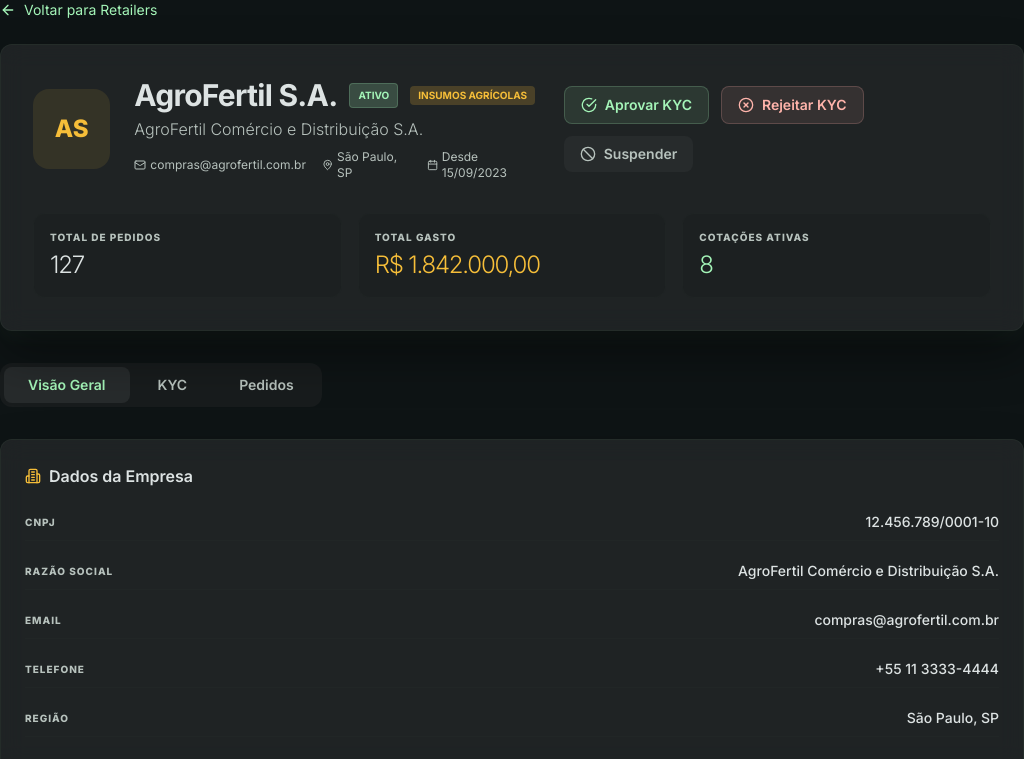
Scenario: RetailerDetailPage › should switch tabs and show each content section
Click the button "KYC" at coordinates (172, 385), box [134,367,211,403]
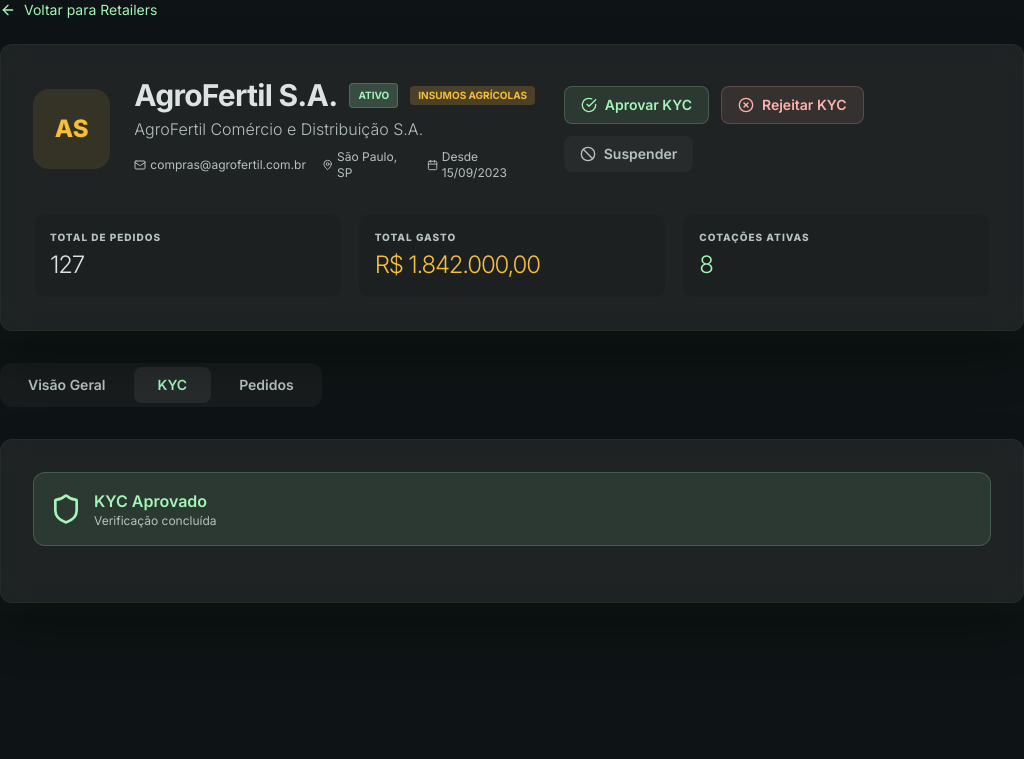
Check: the text "KYC Aprovado" is shown, box [94,489,216,513]
Click the button "Pedidos" at coordinates (266, 385), box [215,367,318,403]
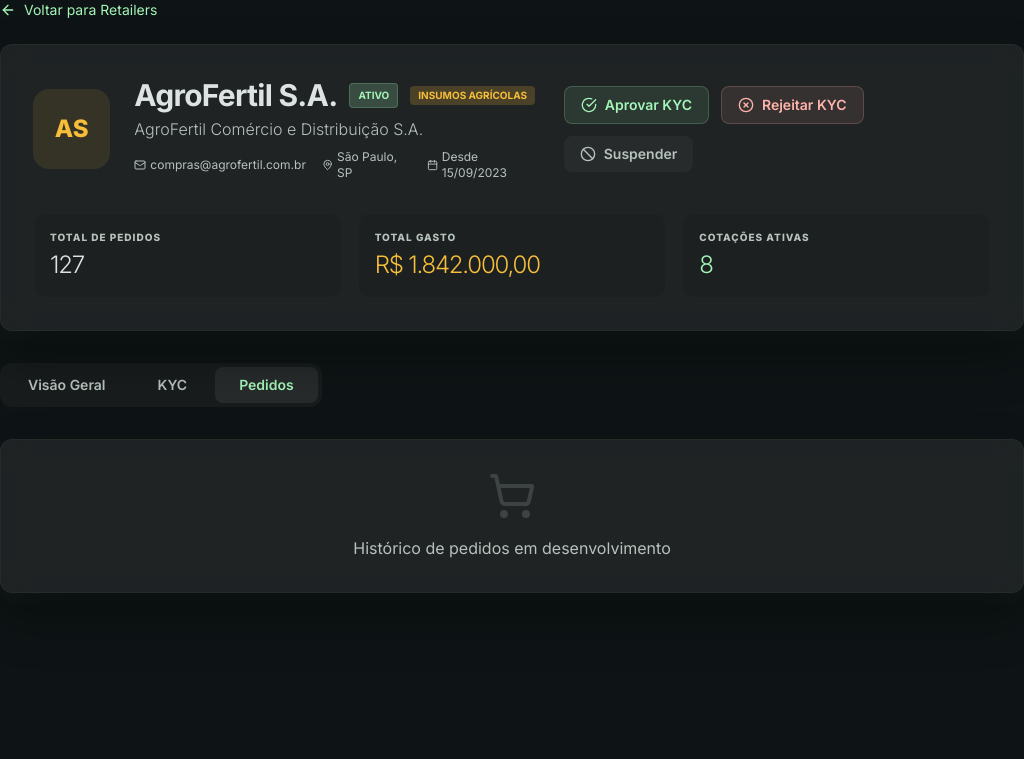
Check: the text "Histórico de pedidos em desenvolvimento" is shown, box [353,538,671,558]
Click the button "Visão Geral" at coordinates (67, 385), box [4,367,130,403]
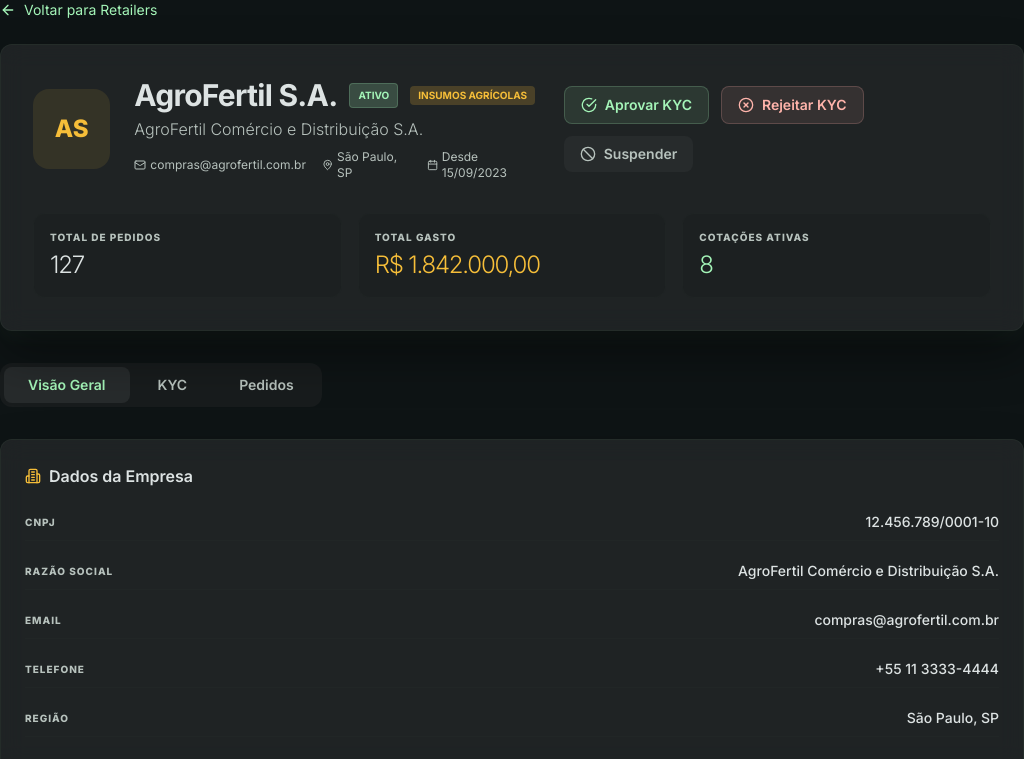
Check: the heading "Dados da Empresa" is shown, box [25,466,193,486]
